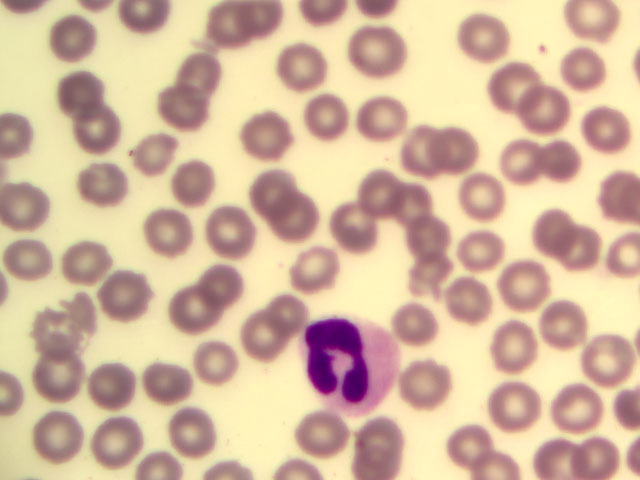RBC: (44, 11, 99, 60), (57, 71, 112, 120), (65, 106, 120, 155), (1, 181, 56, 230), (70, 162, 125, 211), (58, 229, 113, 278), (2, 235, 57, 284), (25, 308, 80, 357), (29, 354, 84, 403), (31, 413, 86, 462), (81, 360, 136, 409), (89, 417, 144, 466), (137, 359, 192, 408), (156, 408, 211, 457), (180, 342, 235, 391), (167, 284, 222, 333), (190, 259, 245, 308), (98, 268, 153, 317), (133, 207, 188, 256), (162, 153, 217, 202), (120, 129, 175, 178), (153, 79, 208, 128), (181, 48, 236, 97), (274, 44, 329, 93), (299, 93, 354, 142), (241, 110, 296, 159), (245, 164, 300, 213), (209, 206, 264, 255), (263, 194, 318, 243), (287, 243, 342, 292), (265, 285, 320, 334), (239, 323, 294, 372), (361, 165, 416, 214), (328, 201, 383, 250), (353, 97, 408, 146), (350, 31, 405, 80), (391, 128, 446, 177), (425, 127, 480, 176), (451, 170, 506, 219), (402, 210, 457, 259), (403, 254, 458, 303), (463, 224, 518, 273), (451, 274, 506, 323), (393, 300, 448, 349), (404, 363, 459, 412), (354, 416, 409, 465), (302, 408, 357, 457), (444, 418, 499, 467), (493, 384, 548, 433), (490, 323, 545, 372), (537, 302, 592, 351), (495, 260, 550, 309), (525, 207, 580, 256), (556, 222, 611, 271), (495, 136, 550, 185), (530, 138, 585, 187), (525, 89, 580, 138), (494, 65, 549, 114), (452, 11, 507, 60), (555, 45, 610, 94), (577, 101, 632, 150), (585, 333, 640, 382), (556, 391, 611, 440), (583, 431, 638, 480), (525, 431, 580, 480), (204, 1, 259, 49)
WBC: (303, 312, 402, 416)
